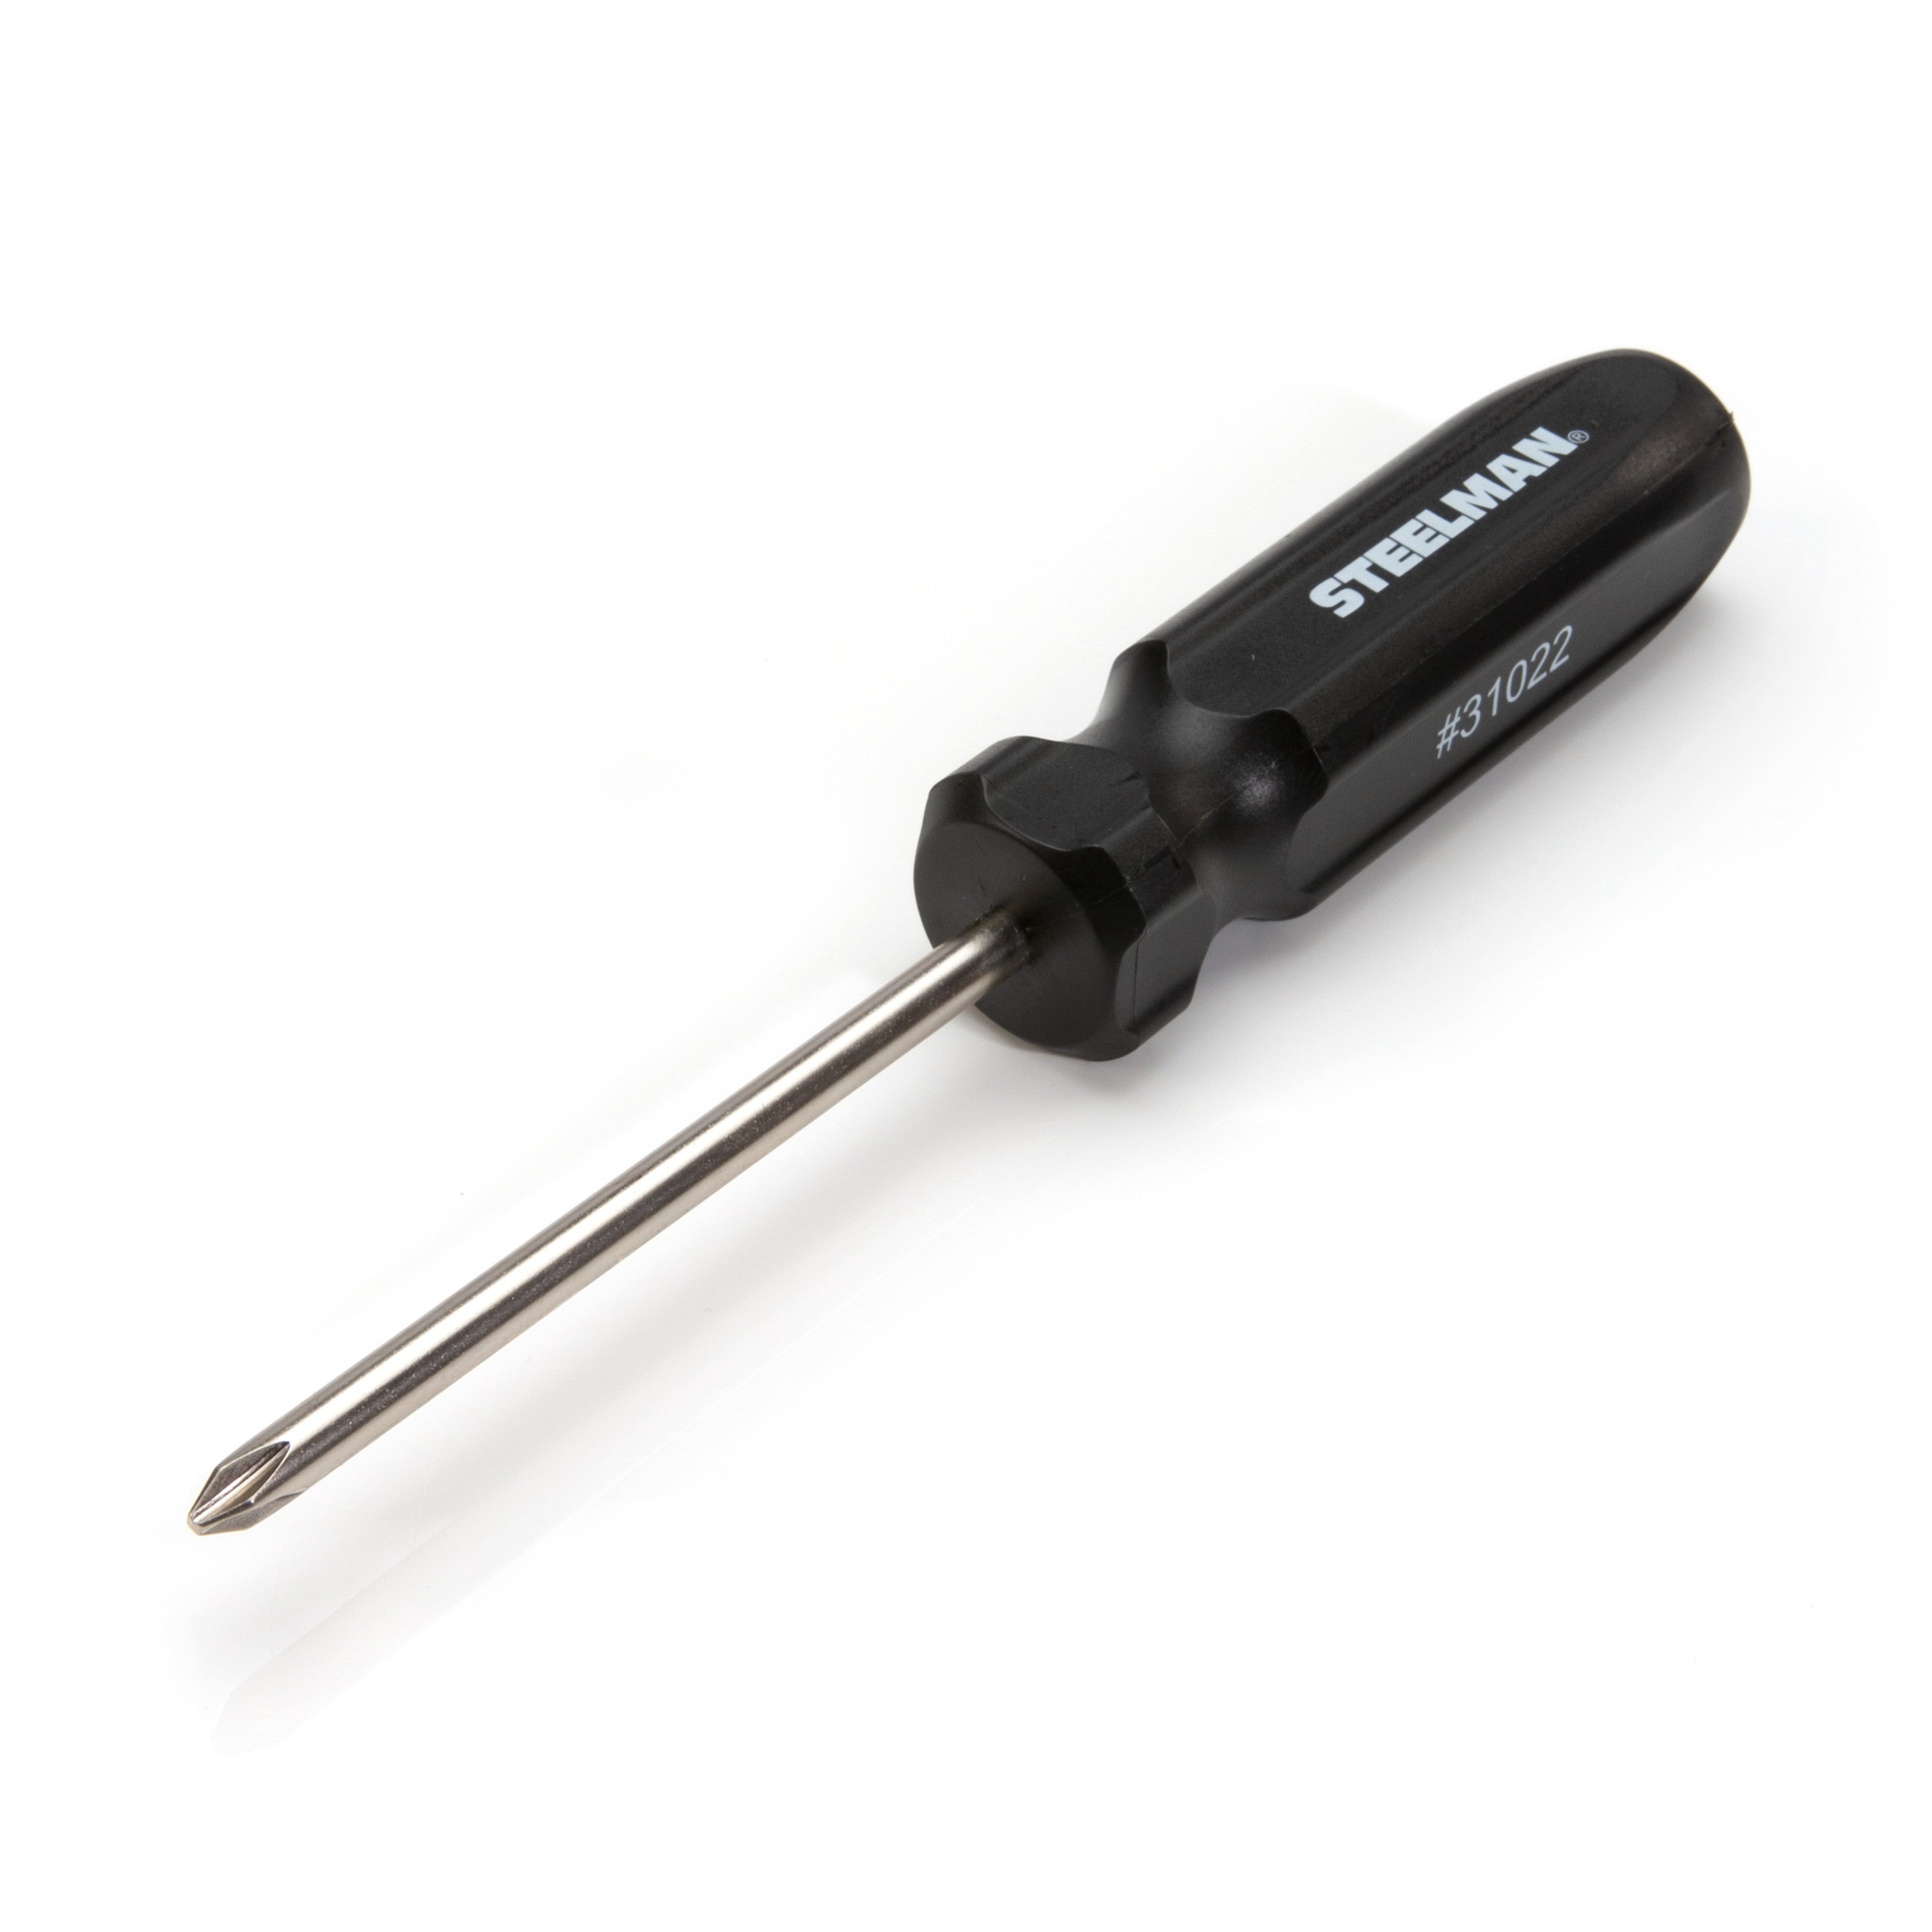screwdriver: (184, 347, 1755, 1543)
